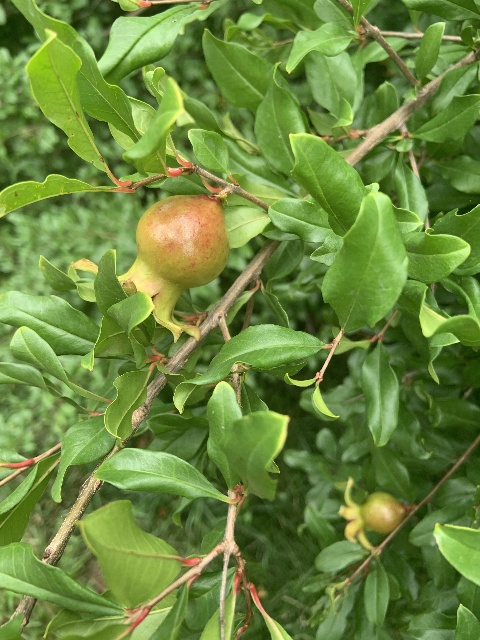early-fruit: (74, 194, 230, 345), (337, 475, 405, 550)
